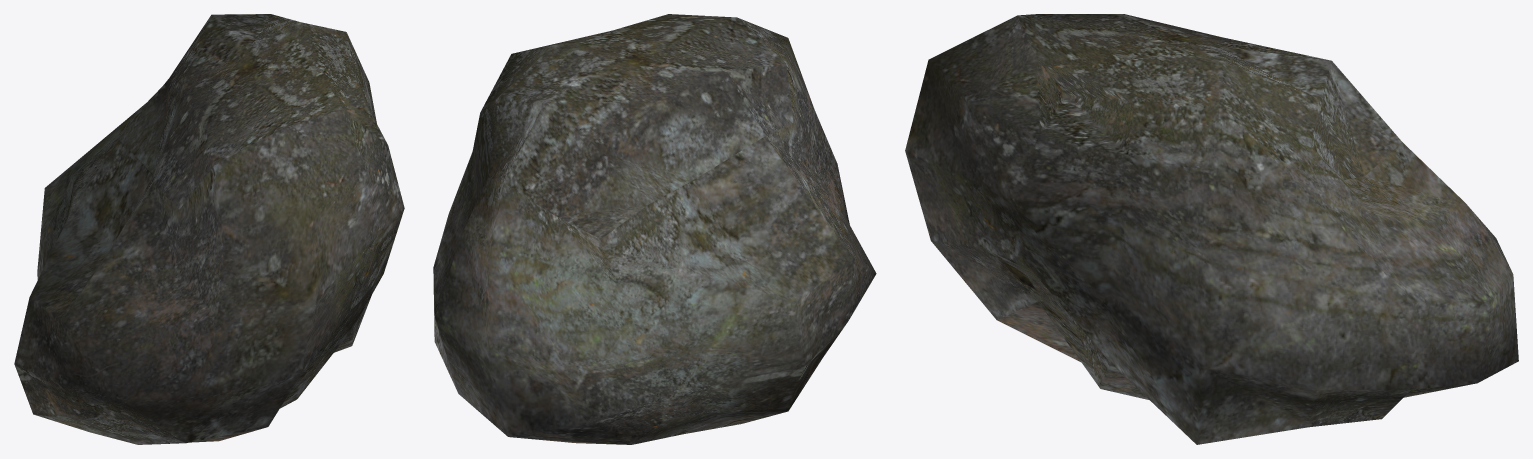
The model's file is roca03_LP.fbx.
The picture shows the model from 3 angles, left to right: view 1: azimuth 30°, elevation 25°; view 2: azimuth 150°, elevation 25°; view 3: azimuth 270°, elevation 25°; orthographic projection. The views are drawn at different scales.
Visible parts, largest first — view 1: roca03_LP; view 2: roca03_LP; view 3: roca03_LP.
Part boxes in pixels (<box>): roca03_LP: <box>14,14,404,444</box>; roca03_LP: <box>433,14,876,444</box>; roca03_LP: <box>905,14,1518,444</box>.
Size of the model in its own units: 167 by 161 by 220.
Materials: 1 (1 with a texture image).
